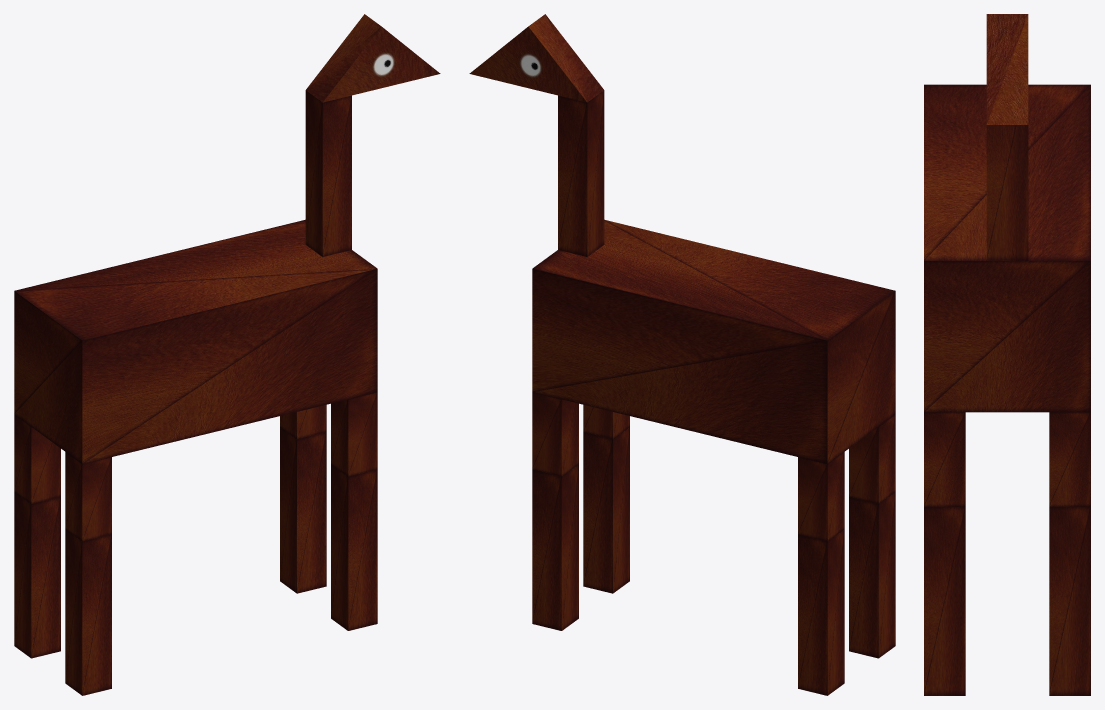
The model's file is horse.obj.
3 views of the same model, side by side, from view 1: azimuth 30°, elevation 25°; view 2: azimuth 150°, elevation 25°; view 3: azimuth 270°, elevation 25° (orthographic). The views are drawn at different scales.
Parts seen in each view (by area): view 1: Body_Object.1, Left_Fore_Lower_Leg_Object.7, Neck_Object.10, Right_Hind_Lower_Leg_Object.3, Right_Fore_Lower_Leg_Object.5, Left_Hind_Lower_Leg_Object.9, Head_Object.11, Right_Hind_Thigh_Object.2, Right_Fore_Thigh_Object.4, Left_Hind_Thigh_Object.8, Left_Fore_Thigh_Object.6; view 2: Body_Object.1, Right_Fore_Lower_Leg_Object.5, Neck_Object.10, Right_Hind_Lower_Leg_Object.3, Left_Fore_Lower_Leg_Object.7, Left_Hind_Lower_Leg_Object.9, Head_Object.11, Left_Hind_Thigh_Object.8, Left_Fore_Thigh_Object.6, Right_Hind_Thigh_Object.2, Right_Fore_Thigh_Object.4; view 3: Body_Object.1, Right_Fore_Lower_Leg_Object.5, Left_Fore_Lower_Leg_Object.7, Neck_Object.10, Head_Object.11, Right_Fore_Thigh_Object.4, Left_Fore_Thigh_Object.6.
Boxes of the visible parts, <box> form: Body_Object.1: <box>14,219,377,464</box>; Left_Fore_Lower_Leg_Object.7: <box>280,427,326,593</box>; Neck_Object.10: <box>305,90,351,256</box>; Right_Hind_Lower_Leg_Object.3: <box>65,529,111,695</box>; Right_Fore_Lower_Leg_Object.5: <box>331,464,377,630</box>; Left_Hind_Lower_Leg_Object.9: <box>14,492,60,658</box>; Head_Object.11: <box>306,14,440,102</box>; Right_Hind_Thigh_Object.2: <box>65,452,111,541</box>; Right_Fore_Thigh_Object.4: <box>331,392,377,476</box>; Left_Hind_Thigh_Object.8: <box>14,414,60,503</box>; Left_Fore_Thigh_Object.6: <box>280,404,326,438</box>; Body_Object.1: <box>532,219,895,464</box>; Right_Fore_Lower_Leg_Object.5: <box>583,427,629,593</box>; Neck_Object.10: <box>558,90,604,256</box>; Right_Hind_Lower_Leg_Object.3: <box>849,492,895,658</box>; Left_Fore_Lower_Leg_Object.7: <box>532,464,578,630</box>; Left_Hind_Lower_Leg_Object.9: <box>798,529,844,695</box>; Head_Object.11: <box>469,14,603,102</box>; Left_Hind_Thigh_Object.8: <box>798,452,844,541</box>; Left_Fore_Thigh_Object.6: <box>532,392,578,476</box>; Right_Hind_Thigh_Object.2: <box>849,414,895,503</box>; Right_Fore_Thigh_Object.4: <box>583,404,629,438</box>; Body_Object.1: <box>924,84,1090,412</box>; Right_Fore_Lower_Leg_Object.5: <box>924,507,965,695</box>; Left_Fore_Lower_Leg_Object.7: <box>1049,507,1090,695</box>; Neck_Object.10: <box>986,125,1028,260</box>; Head_Object.11: <box>986,14,1028,124</box>; Right_Fore_Thigh_Object.4: <box>924,412,965,506</box>; Left_Fore_Thigh_Object.6: <box>1049,412,1090,506</box>.
Size of the model in its own units: 130 by 185 by 40.
